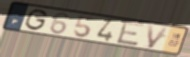4: (95, 18, 115, 43)
5: (72, 14, 96, 39)
6: (49, 12, 71, 35)
E: (115, 20, 146, 47)
G: (23, 9, 49, 32)
V: (145, 24, 171, 50)
